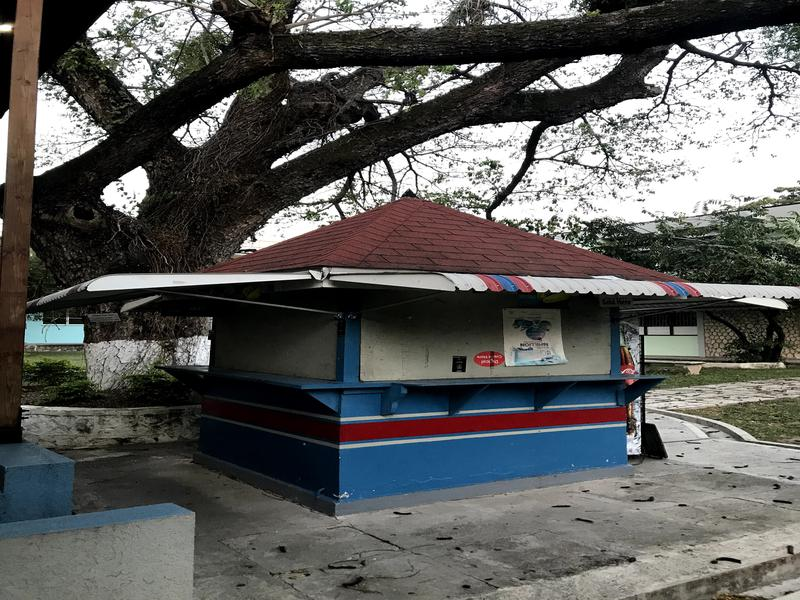18.0051667_-76.74944412_librarystall: (204, 178, 672, 513)
